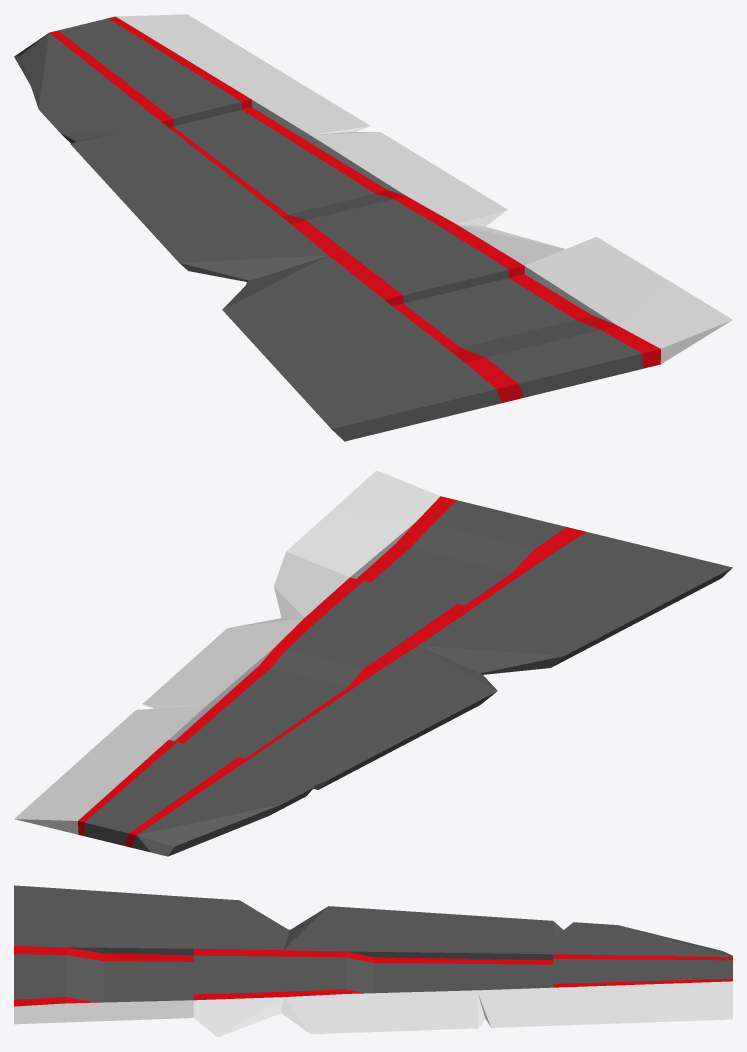
File: wings.fbx
3 views of the same model, one above another, from view 1: azimuth 30°, elevation 25°; view 2: azimuth 150°, elevation 25°; view 3: azimuth 270°, elevation 25° (orthographic). The views are drawn at different scales.
Visible parts, largest first — view 1: Cube; view 2: Cube; view 3: Cube.
Part boxes in pixels (x1,y1,x2,y2): Cube: [14, 14, 732, 441]; Cube: [14, 470, 732, 856]; Cube: [14, 885, 732, 1037].
Size of the model in its own units: 298 by 19.22 by 614.
